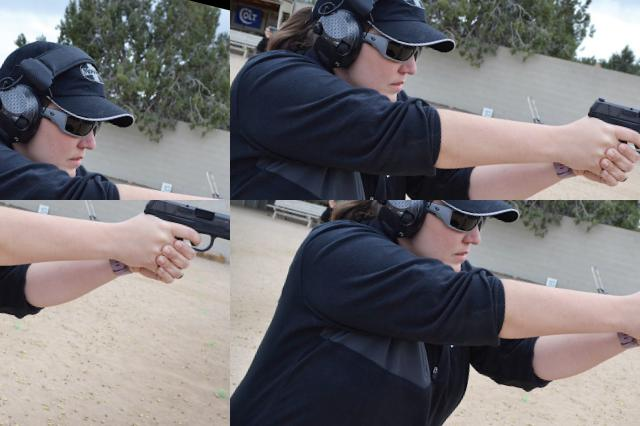handgun: (230, 19, 391, 178), (0, 200, 38, 252), (0, 5, 31, 51)
